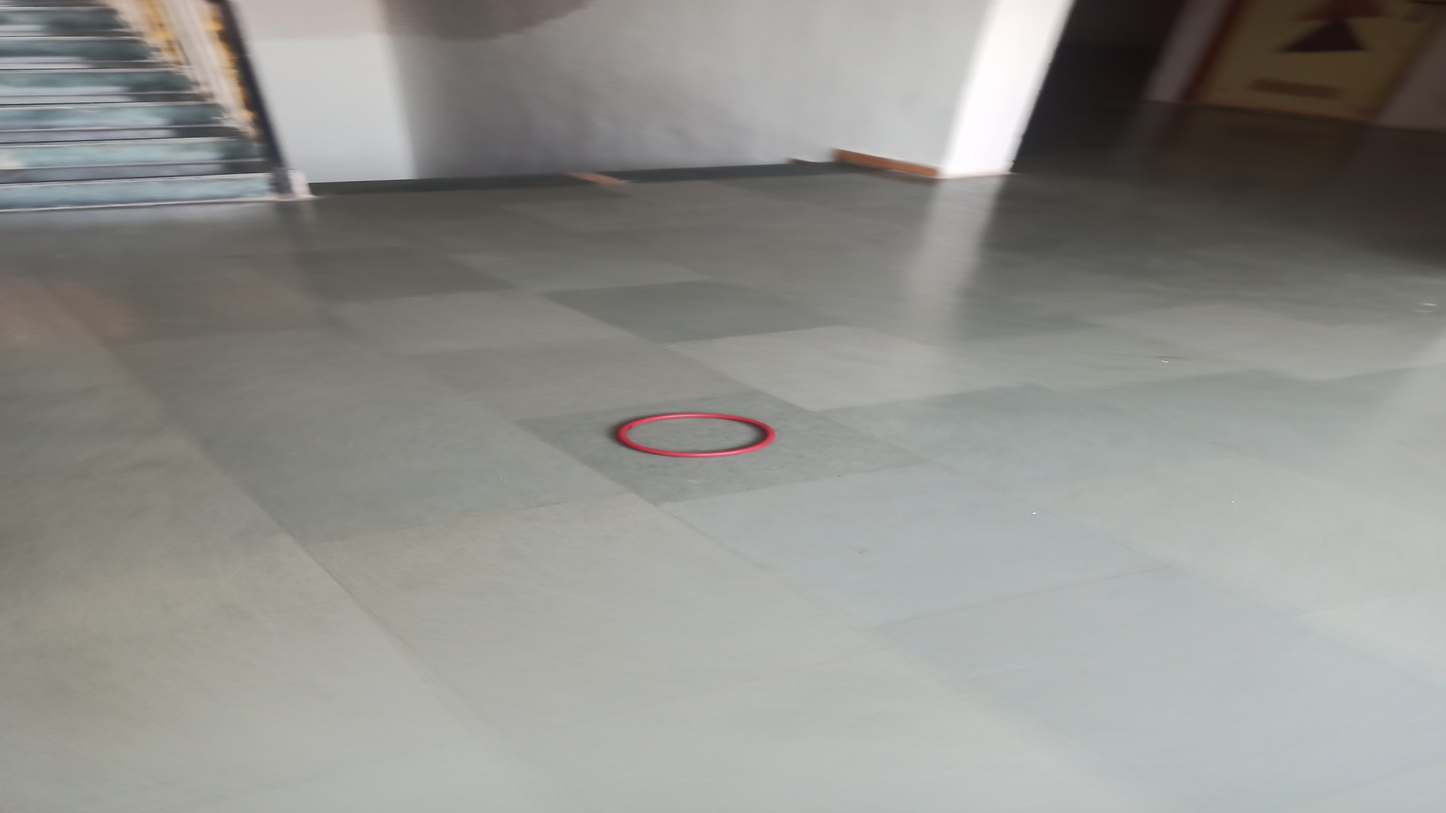Red ring: (614, 415, 776, 461)
